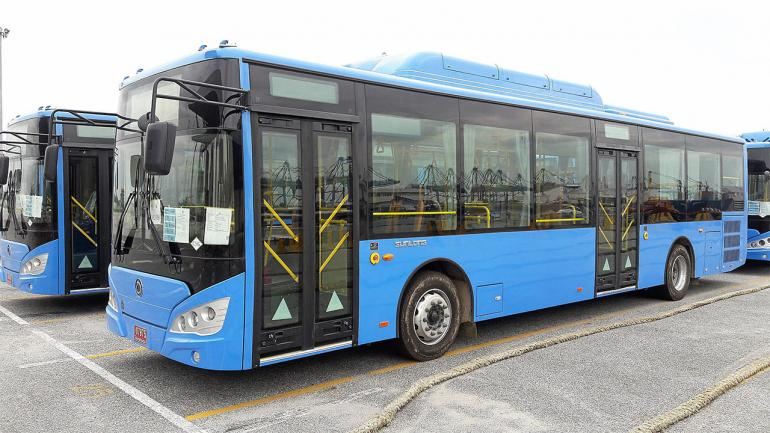bus: (107, 46, 749, 377)
